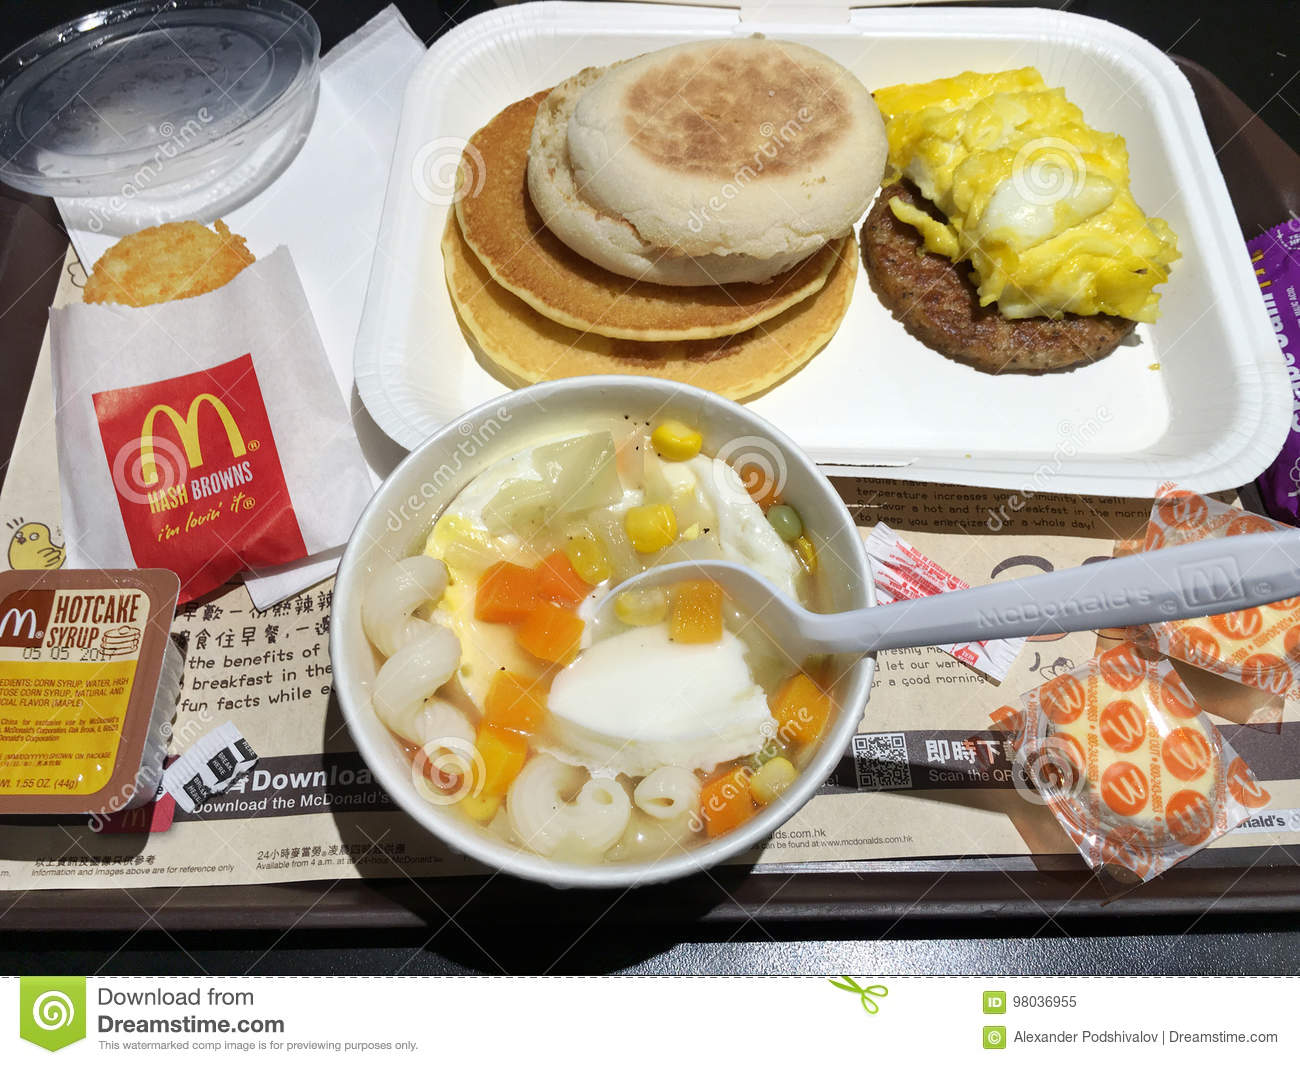mcdonalds: (130, 392, 248, 490)
